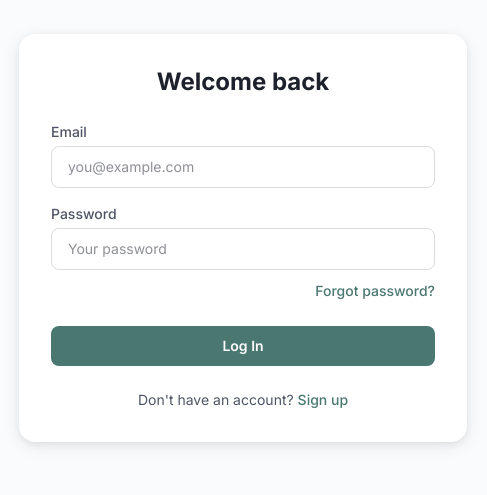
Test: LoginPage › shows generic error on network failure
Type "imane@example.com" into the field labelled "Email" at (243, 167), box [51,146,435,188]
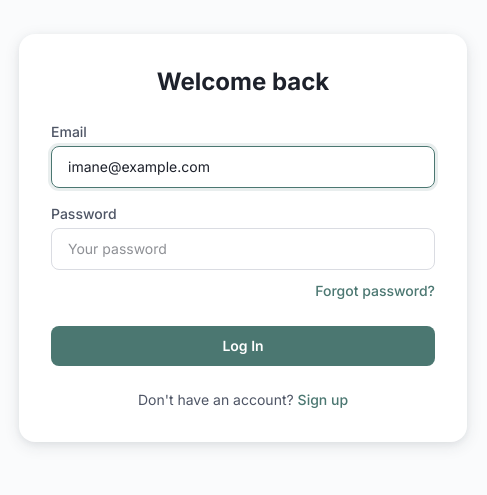
Type "StrongPass1" into the password field labelled "Password" at (243, 249), box [51,228,435,270]
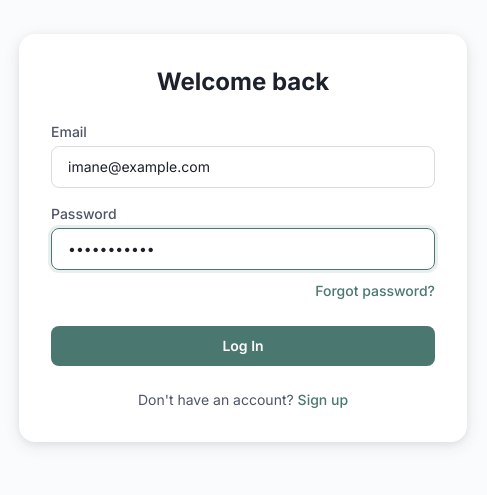
Click the button "Log In" at (243, 346), box [51,326,435,366]
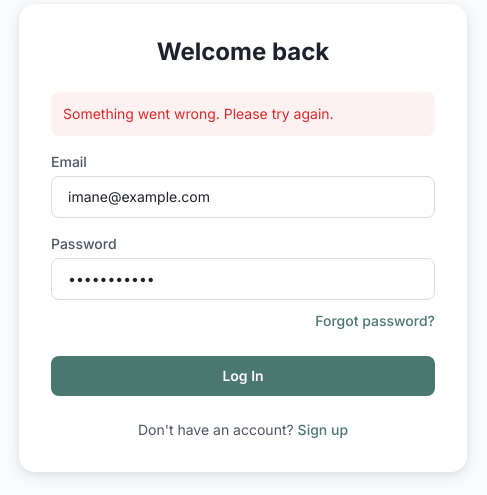
Now the text "Something went wrong. Please try again." is shown, box [51,92,435,136]
